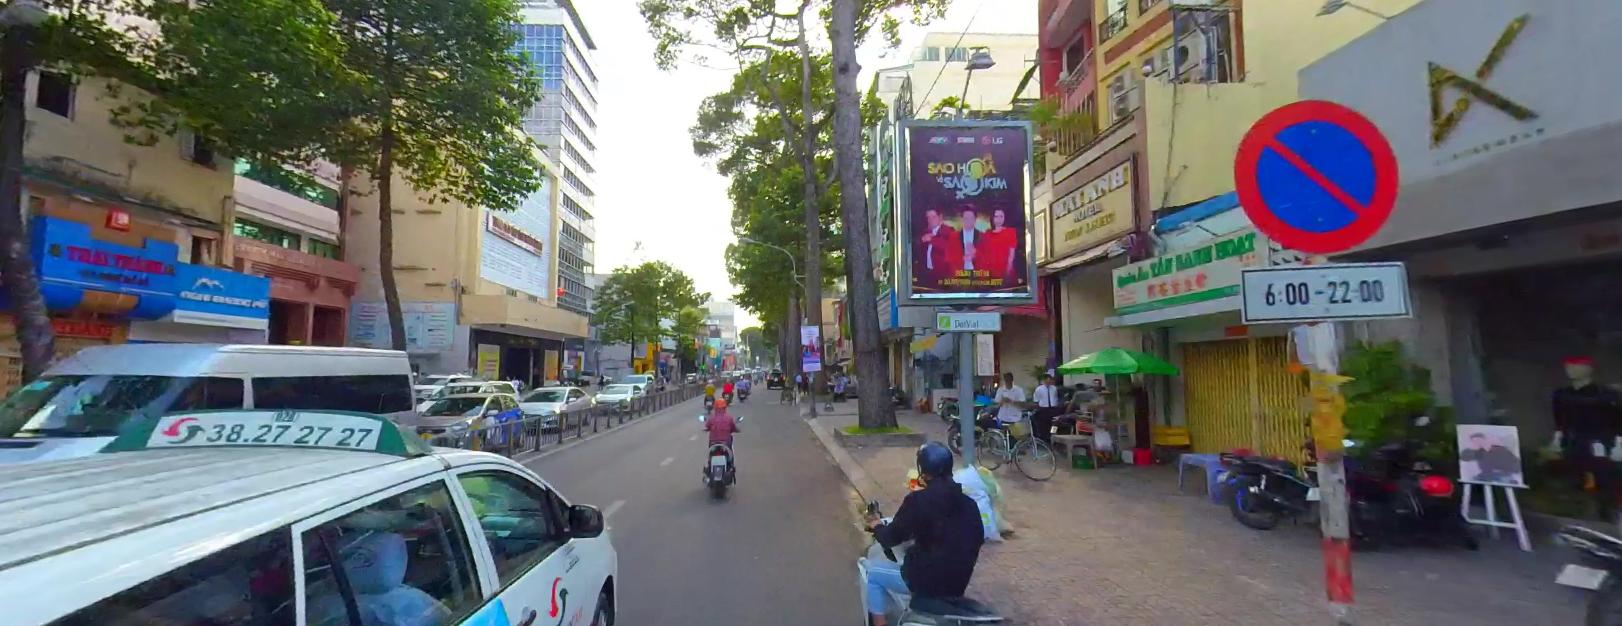Cam dung va do: (1229, 96, 1398, 254)
